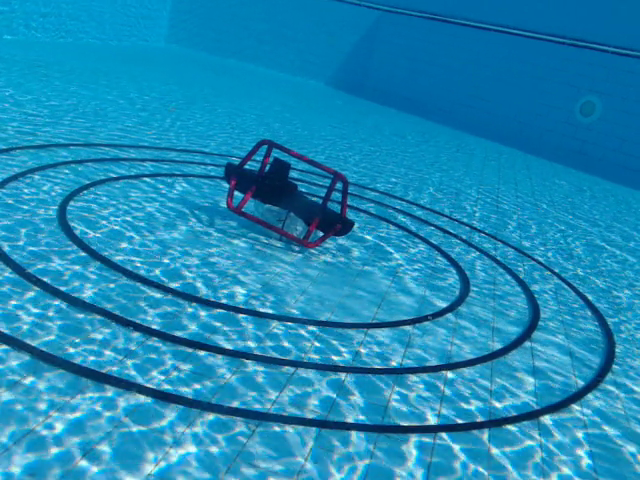submarine: (222, 136, 357, 252)
